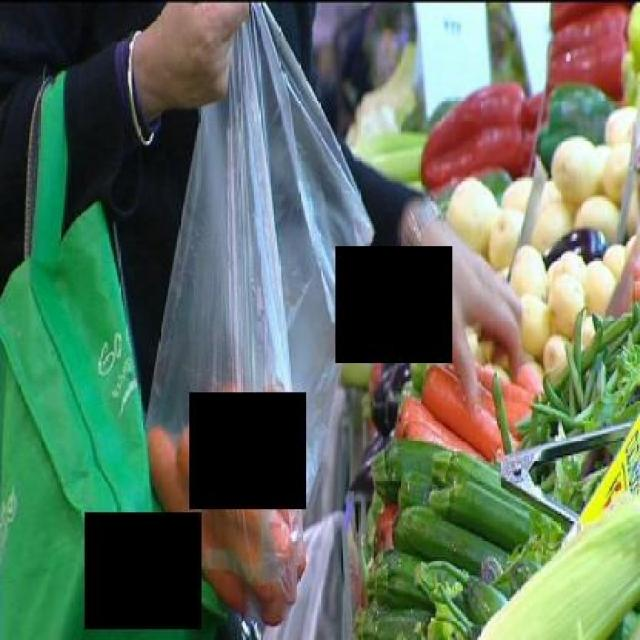plastic bag: (138, 0, 376, 631)
